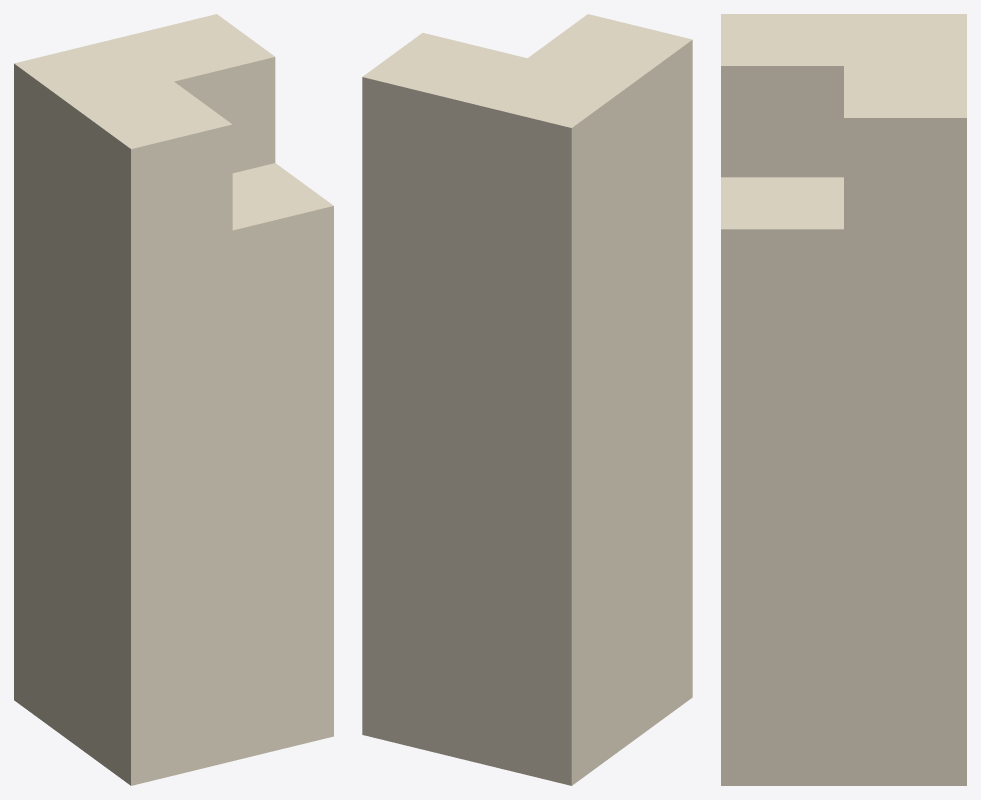
File: arctic_fox__leg_br.obj
3 renders of one model, left to right at view 1: azimuth 30°, elevation 25°; view 2: azimuth 150°, elevation 25°; view 3: azimuth 270°, elevation 25°, orthographic. The views are drawn at different scales.
Parts seen in each view (by area): view 1: arctic_fox__leg_br; view 2: arctic_fox__leg_br; view 3: arctic_fox__leg_br.
Part boxes in pixels (x1=…): arctic_fox__leg_br: x1=14, y1=14, x2=333, y2=785; arctic_fox__leg_br: x1=362, y1=14, x2=692, y2=785; arctic_fox__leg_br: x1=721, y1=14, x2=966, y2=785.
Size of the model in its own units: 0.2 by 0.6 by 0.2.
Materials: 1 (1 with a texture image).
